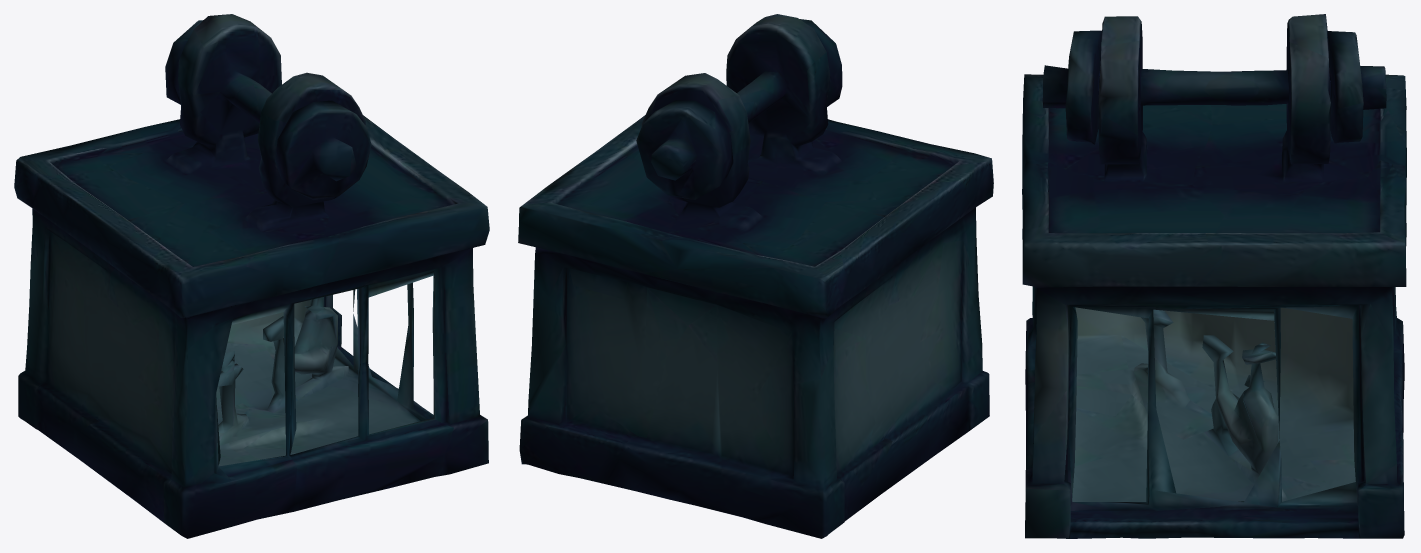
Rendered from 3d-silownia.glb.
The picture shows the model from 3 angles, left to right: view 1: azimuth 30°, elevation 25°; view 2: azimuth 150°, elevation 25°; view 3: azimuth 270°, elevation 25°; orthographic projection. The views are drawn at different scales.
Parts seen in each view (by area): view 1: tripo_node_5df5768b-13f7-4650-8e49-380c4a29ec6b; view 2: tripo_node_5df5768b-13f7-4650-8e49-380c4a29ec6b; view 3: tripo_node_5df5768b-13f7-4650-8e49-380c4a29ec6b.
Part boxes in pixels (x1,y1,x2,y2): tripo_node_5df5768b-13f7-4650-8e49-380c4a29ec6b: (14, 14, 489, 538); tripo_node_5df5768b-13f7-4650-8e49-380c4a29ec6b: (518, 14, 993, 538); tripo_node_5df5768b-13f7-4650-8e49-380c4a29ec6b: (1022, 14, 1406, 538).
Bounding box in the file's own units: 0.8255 × 1 × 0.7829.
Materials: 1 (1 with a texture image).
